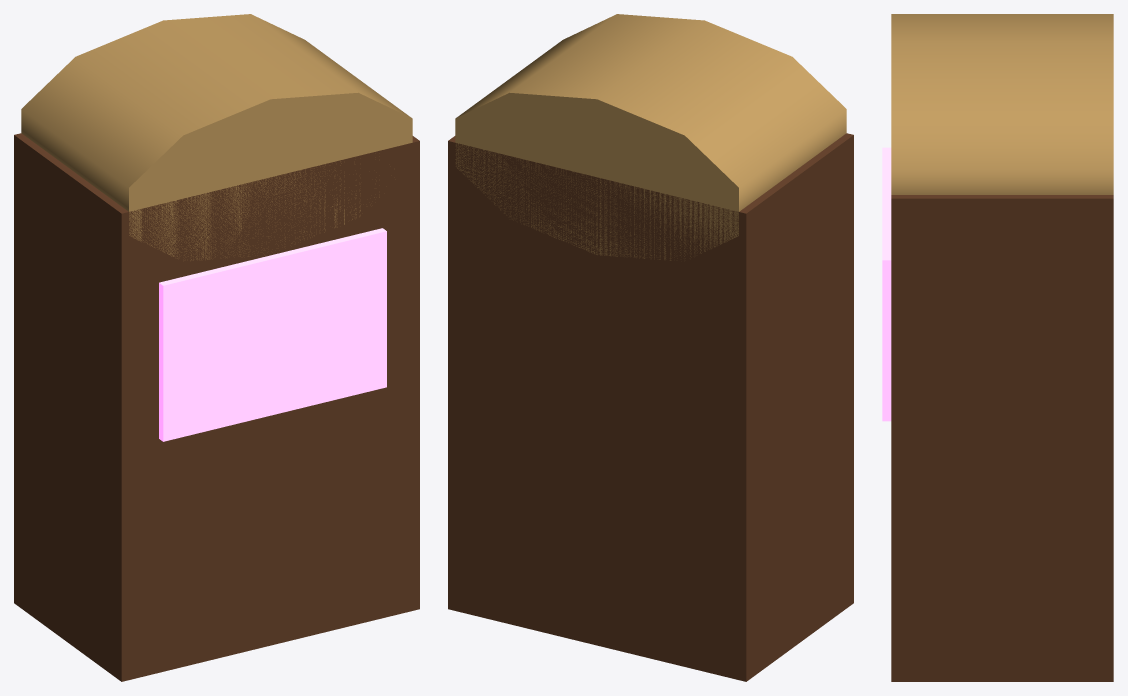
File: f_jukebox.glb
3 views of the same model, side by side, from view 1: azimuth 30°, elevation 25°; view 2: azimuth 150°, elevation 25°; view 3: azimuth 270°, elevation 25° (orthographic). The views are drawn at different scales.
Visible parts, largest first — view 1: jukebox; view 2: jukebox; view 3: jukebox.
Part boxes in pixels (x1,y1,x2,y2): jukebox: (14, 14, 419, 681); jukebox: (448, 14, 853, 681); jukebox: (882, 14, 1113, 681).
Bounding box in the file's own units: 0.8 × 1.4 × 0.52.
